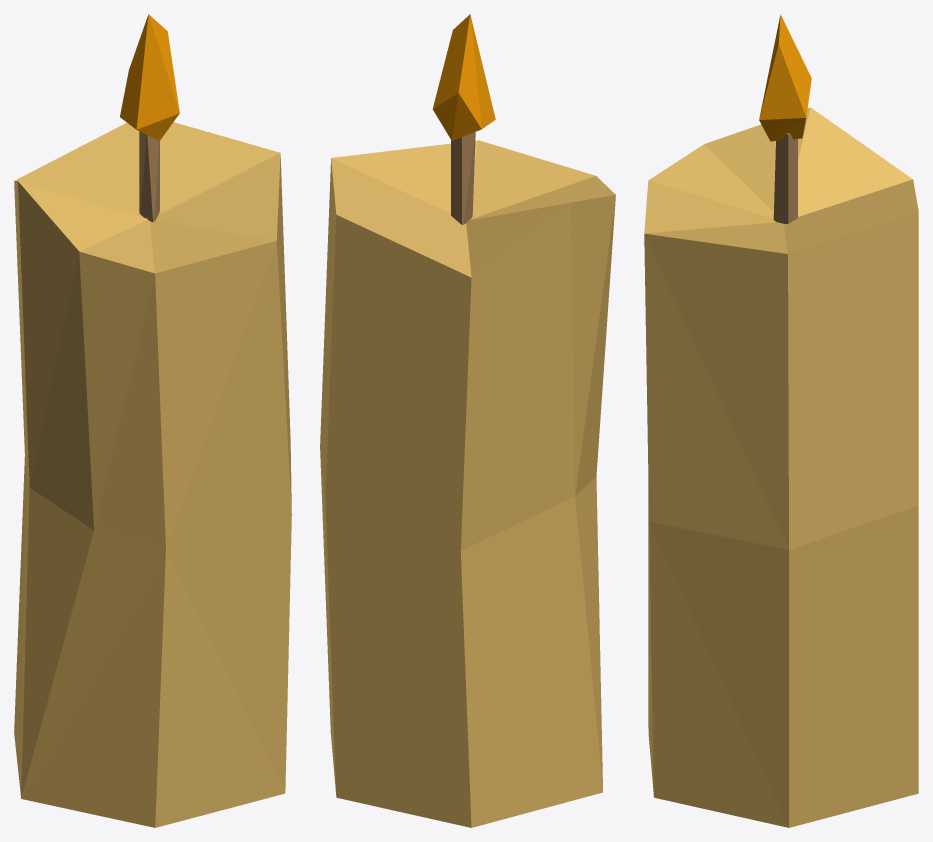
The model's file is Candle_03.fbx.
3 views of the same model, side by side, from view 1: azimuth 30°, elevation 25°; view 2: azimuth 150°, elevation 25°; view 3: azimuth 270°, elevation 25° (orthographic).
Parts seen in each view (by area): view 1: Candle_03; view 2: Candle_03; view 3: Candle_03.
Part boxes in pixels (<box>): Candle_03: <box>14,14,291,827</box>; Candle_03: <box>320,14,615,827</box>; Candle_03: <box>644,14,918,827</box>.
Size of the model in its own units: 0.1282 by 0.3325 by 0.1106.
